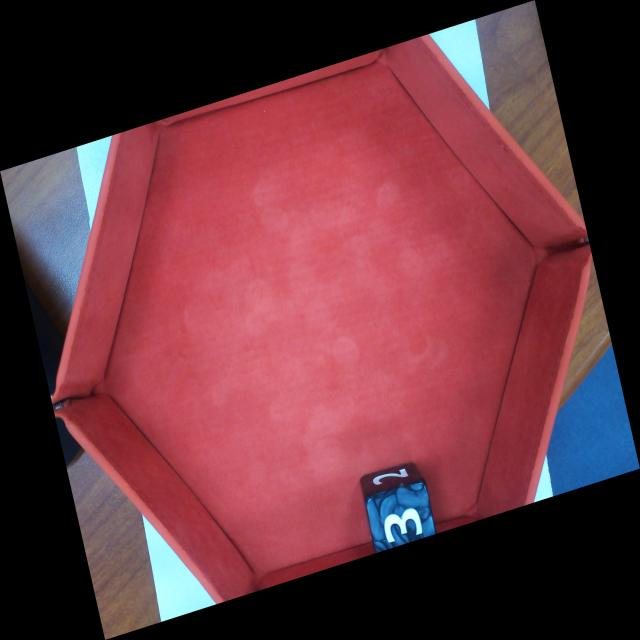dice: (367, 480, 436, 553)
